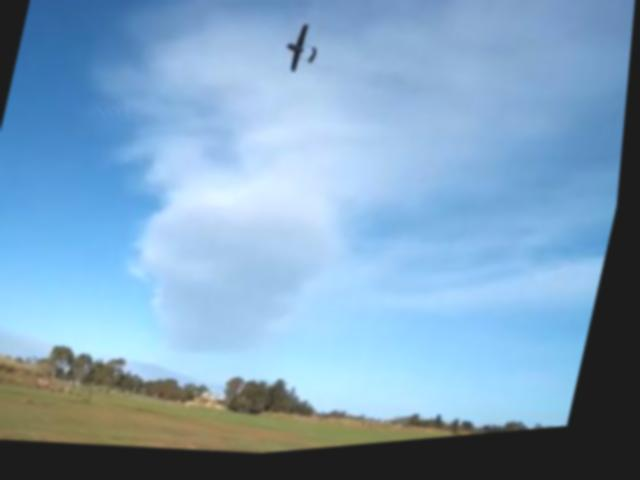uav: (275, 17, 333, 91)
